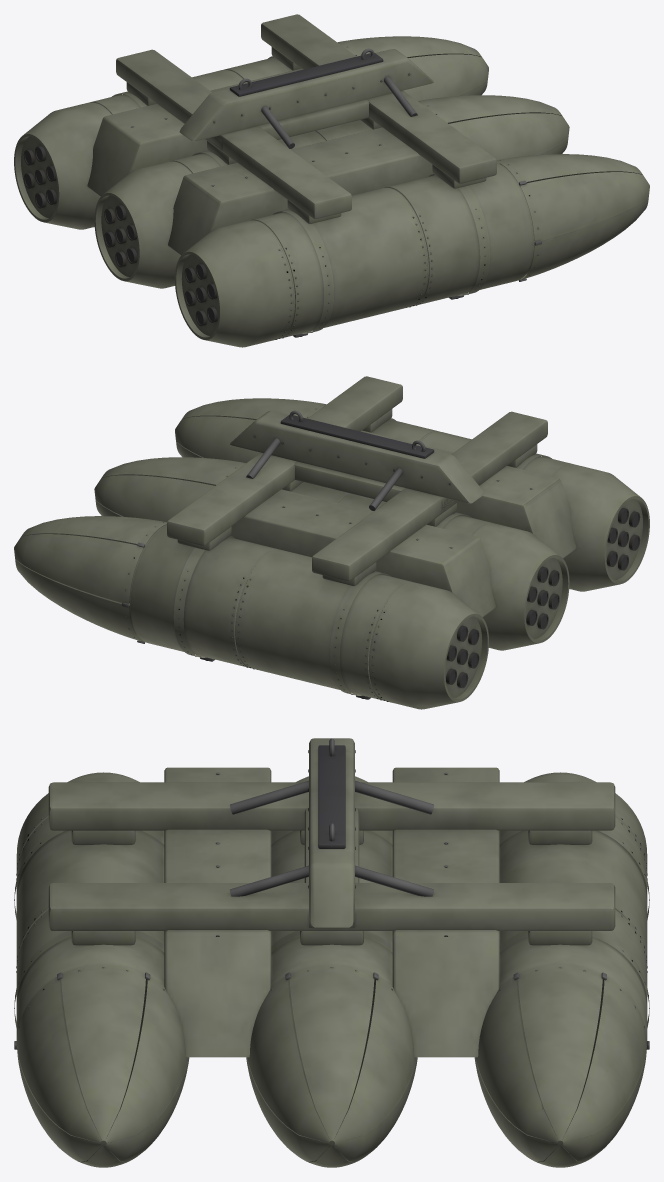
The model's file is rockets_evo.glb.
The picture shows the model from 3 angles, top to bottom: view 1: azimuth 30°, elevation 25°; view 2: azimuth 150°, elevation 25°; view 3: azimuth 270°, elevation 25°; orthographic projection. The views are drawn at different scales.
Visible parts, largest first — view 1: rockets_evo; view 2: rockets_evo; view 3: rockets_evo.
Part boxes in pixels (bbox=[...]): rockets_evo: bbox=[14, 14, 649, 347]; rockets_evo: bbox=[14, 376, 649, 709]; rockets_evo: bbox=[14, 738, 649, 1167].
Size of the model in its own units: 0.81 by 0.326 by 0.6962.
5 materials, 5 textured.
